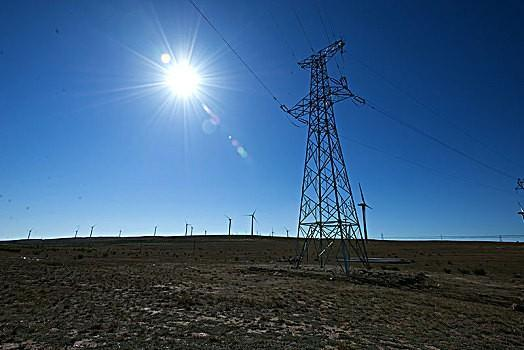power_tower: (280, 37, 372, 272)
